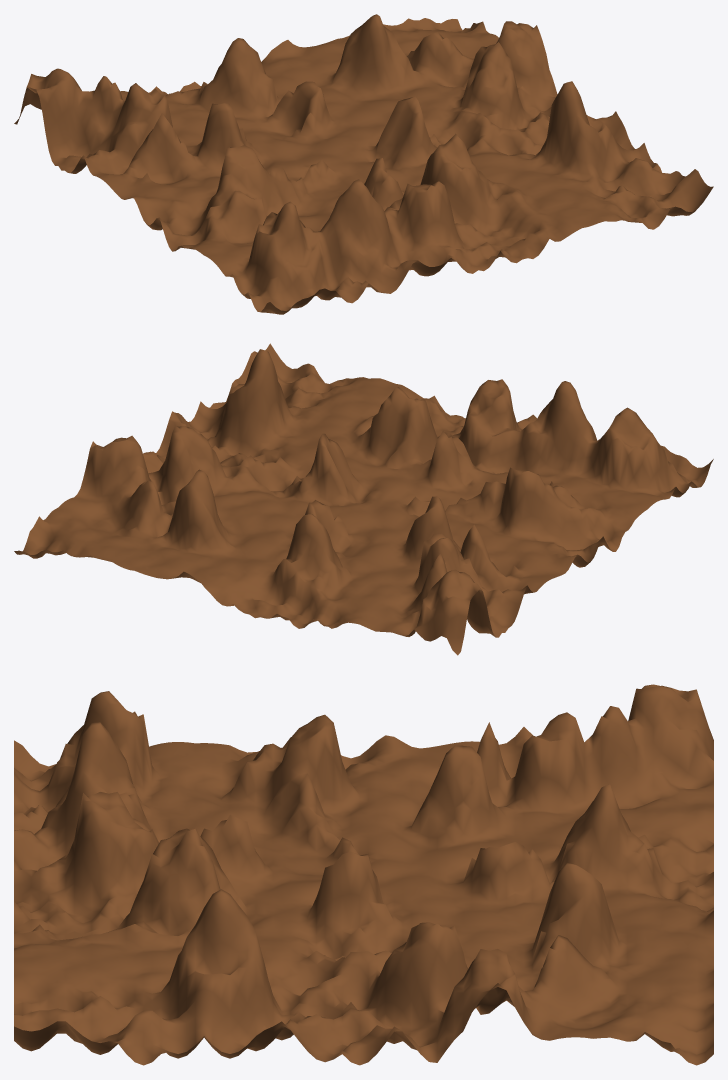
The model's file is landscape3.dae.
The picture shows the model from 3 angles, top to bottom: view 1: azimuth 30°, elevation 25°; view 2: azimuth 150°, elevation 25°; view 3: azimuth 270°, elevation 25°; orthographic projection. The views are drawn at different scales.
Visible parts, largest first — view 1: Plane.004; view 2: Plane.004; view 3: Plane.004.
Boxes of the visible parts, x1=… form: Plane.004: x1=14, y1=14, x2=713, y2=314; Plane.004: x1=14, y1=343, x2=713, y2=655; Plane.004: x1=14, y1=684, x2=713, y2=1065.
Bounding box in the file's own units: 695 × 695 × 141.
